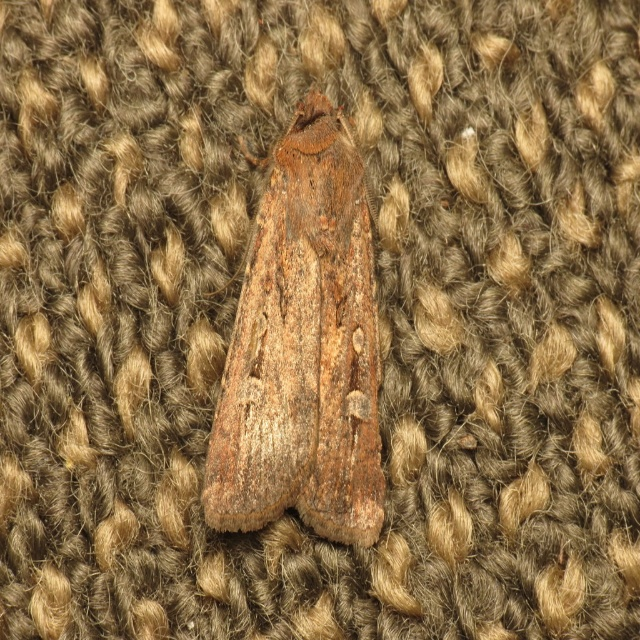Moths and butterflies: (201, 79, 388, 554)
